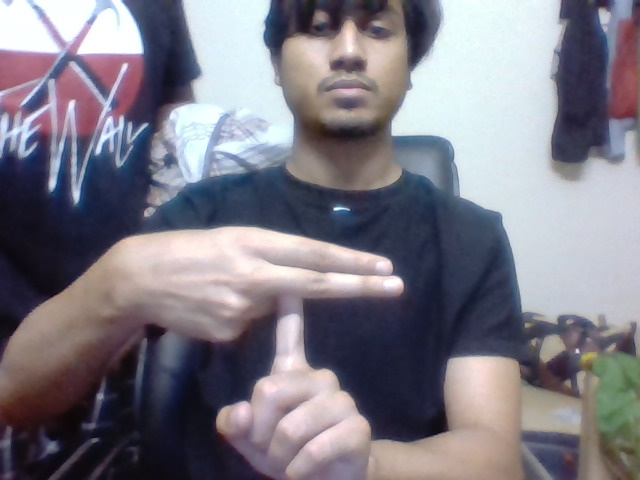F: (246, 224, 415, 372)
